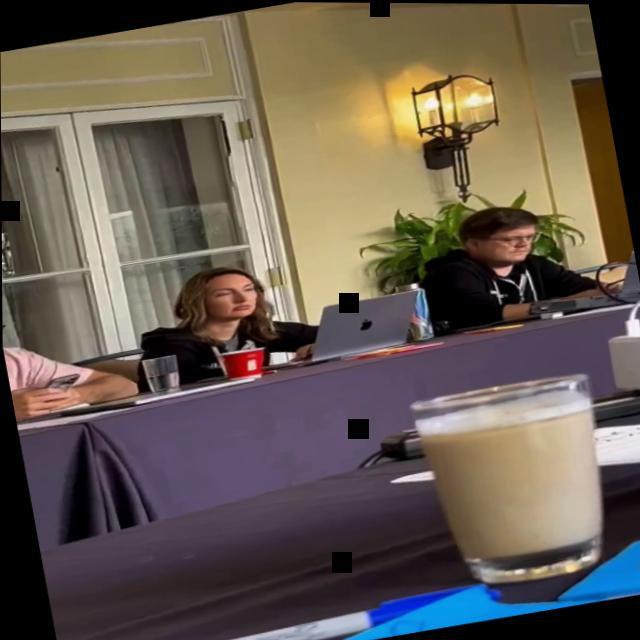NO-Mask: (202, 264, 264, 323), (492, 218, 543, 263)
